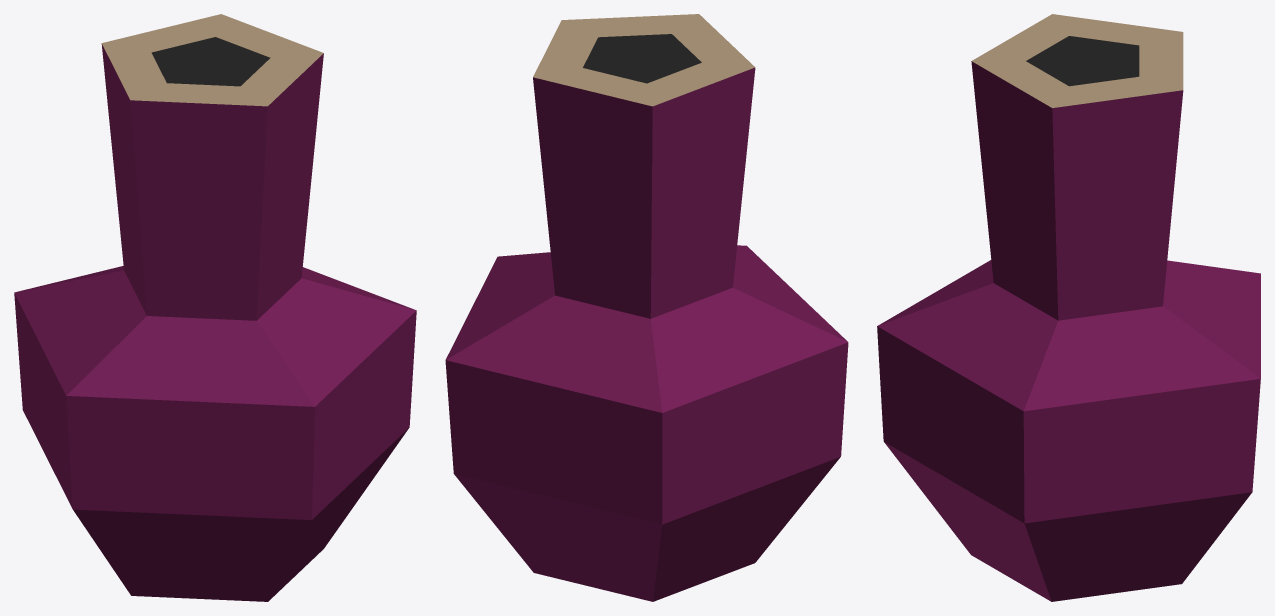
Rendered from TB_D_Prop_Jar_T.FBX.
The picture shows the model from 3 angles, left to right: view 1: azimuth 30°, elevation 25°; view 2: azimuth 150°, elevation 25°; view 3: azimuth 270°, elevation 25°; orthographic projection.
Visible parts, largest first — view 1: TB_D_Prop_Jar_T; view 2: TB_D_Prop_Jar_T; view 3: TB_D_Prop_Jar_T.
Boxes of the visible parts, x1,y1,x2,y2 form: TB_D_Prop_Jar_T: (14,14,416,601); TB_D_Prop_Jar_T: (445,14,848,601); TB_D_Prop_Jar_T: (877,14,1260,601).
Size of the model in its own units: 0.5737 by 0.7749 by 0.5456.
